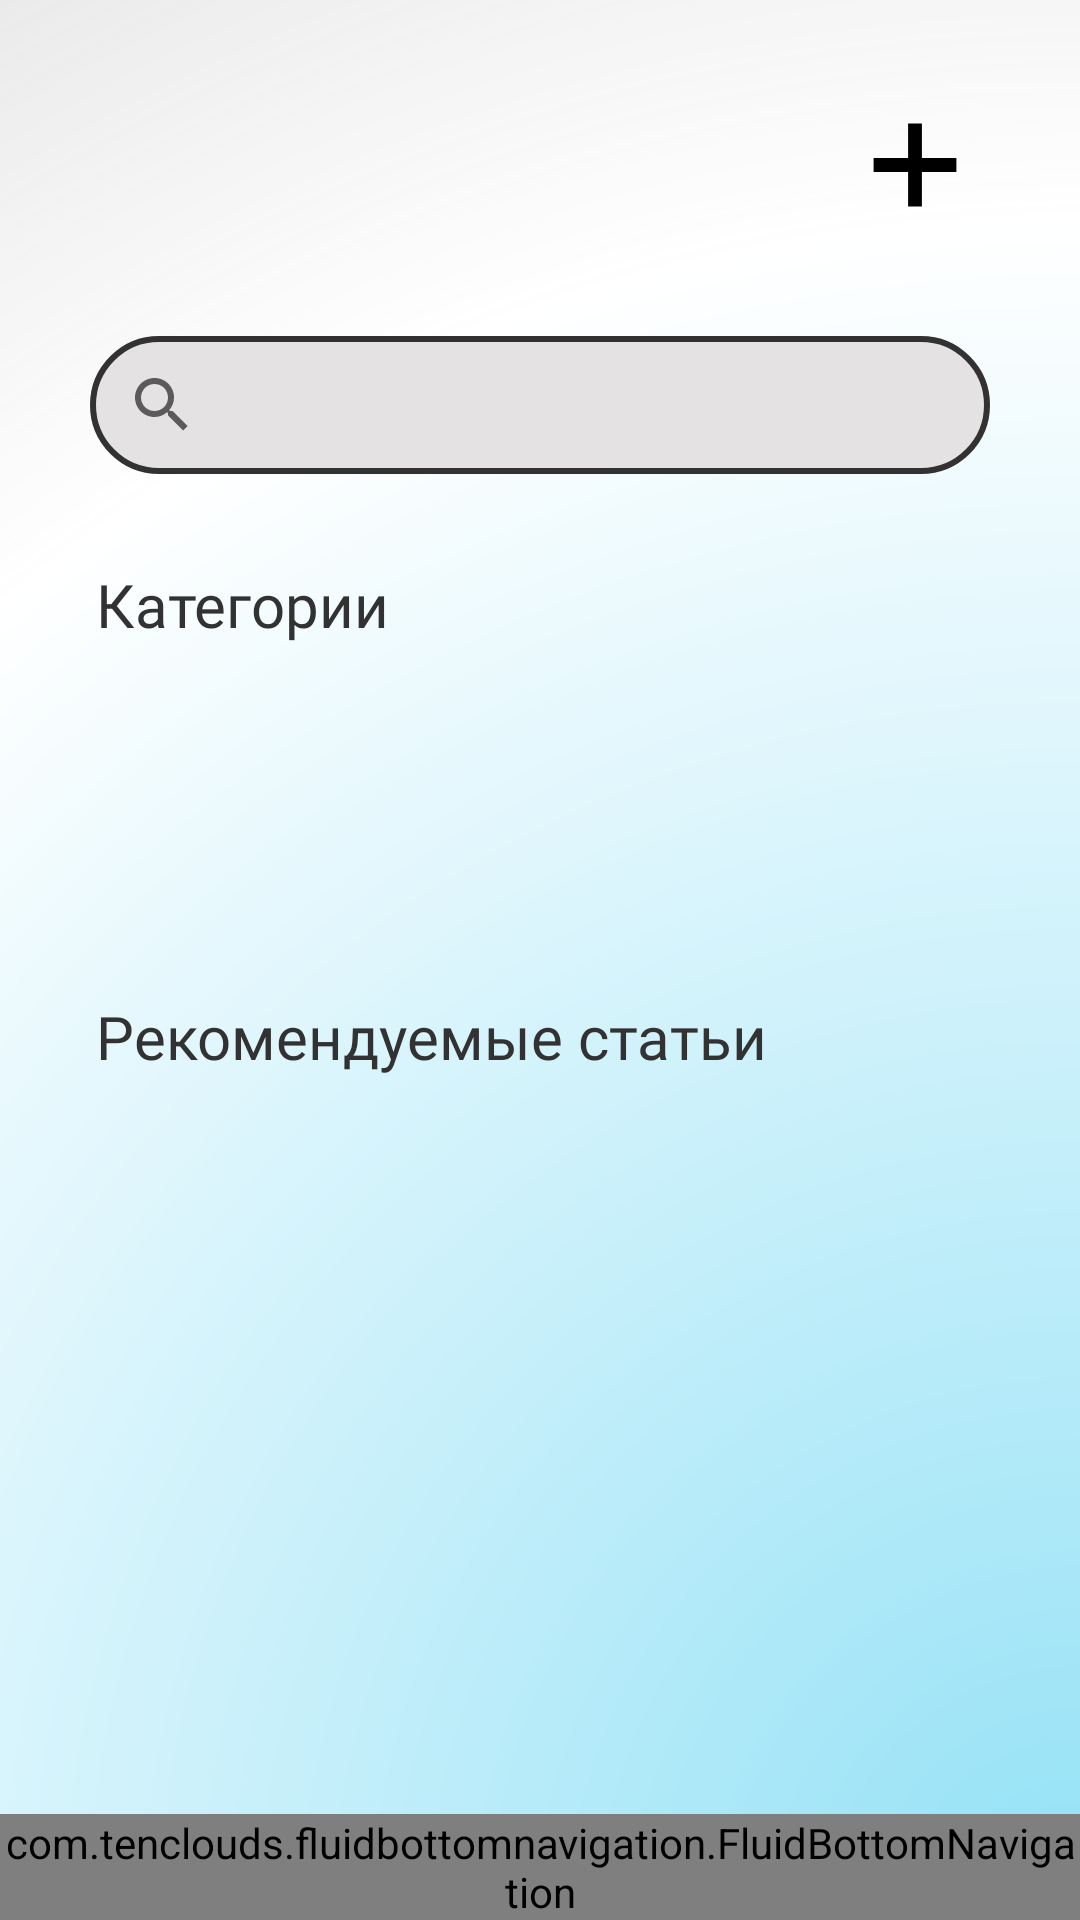

Where icons sit on this 1080 x 1920 app screen, as (x1,y1,x2,y2):
plus: (873,123,957,207)
